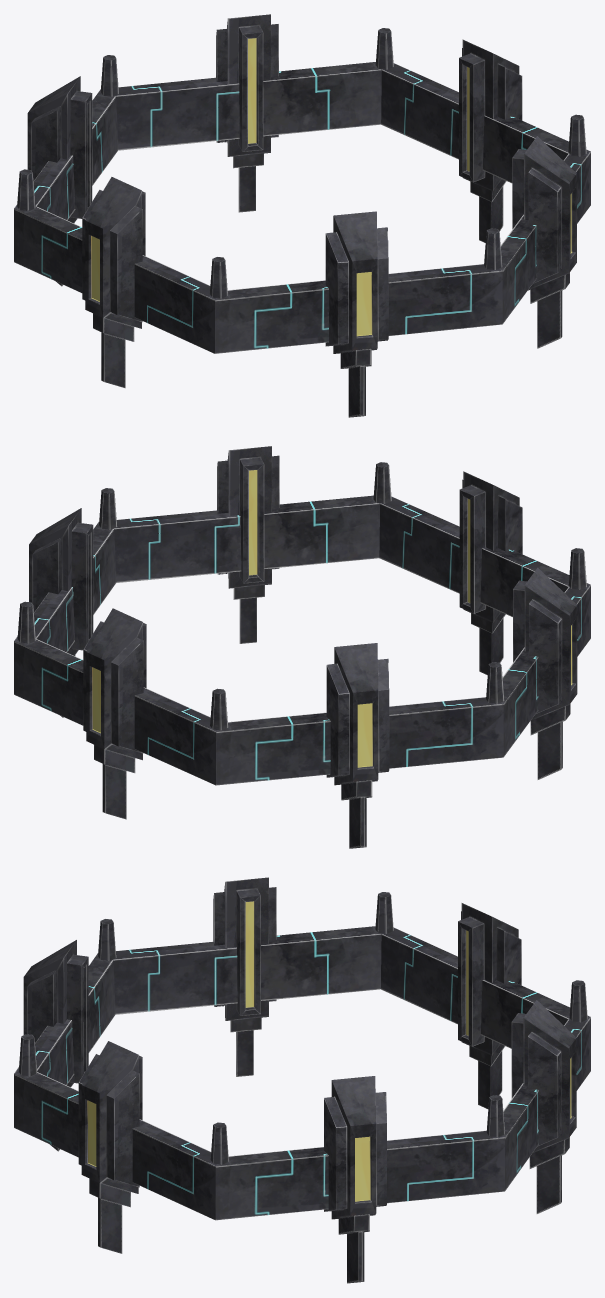
File: Contour_Arene.fbx
3 views of the same model, one above another, from view 1: azimuth 30°, elevation 25°; view 2: azimuth 150°, elevation 25°; view 3: azimuth 270°, elevation 25° (orthographic).
Visible parts, largest first — view 1: group129_Plateforme2; view 2: group129_Plateforme2; view 3: group129_Plateforme2.
Part boxes in pixels (bbox=[...]): group129_Plateforme2: bbox=[14, 14, 590, 417]; group129_Plateforme2: bbox=[14, 446, 590, 848]; group129_Plateforme2: bbox=[14, 877, 590, 1283].
Size of the model in its own units: 2.89 by 1.12 by 2.92.
